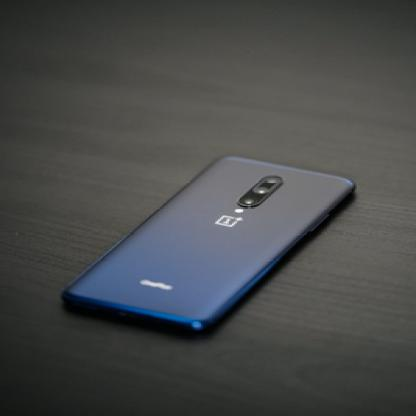cell-phone: (65, 151, 371, 341)
